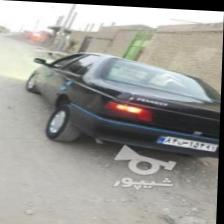plate: (156, 131, 219, 151)
